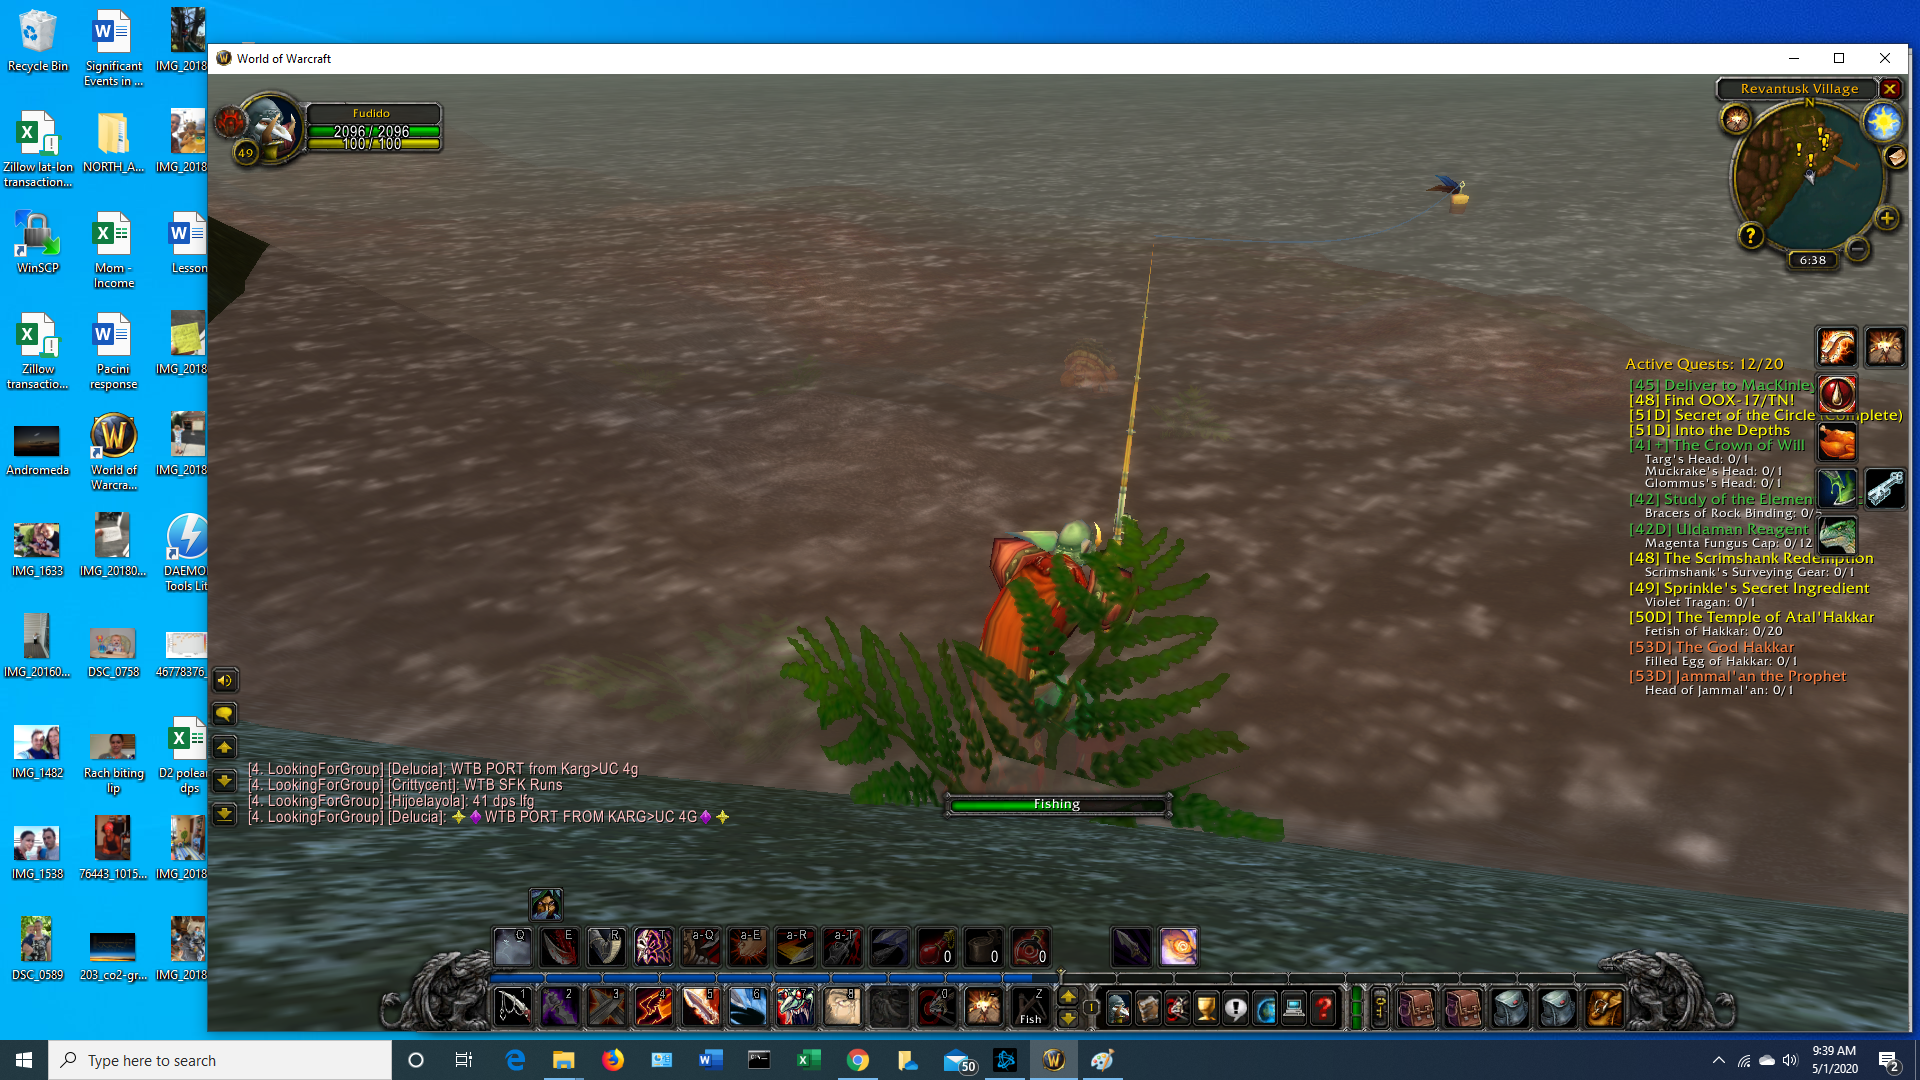bobble: (1425, 164, 1474, 215)
